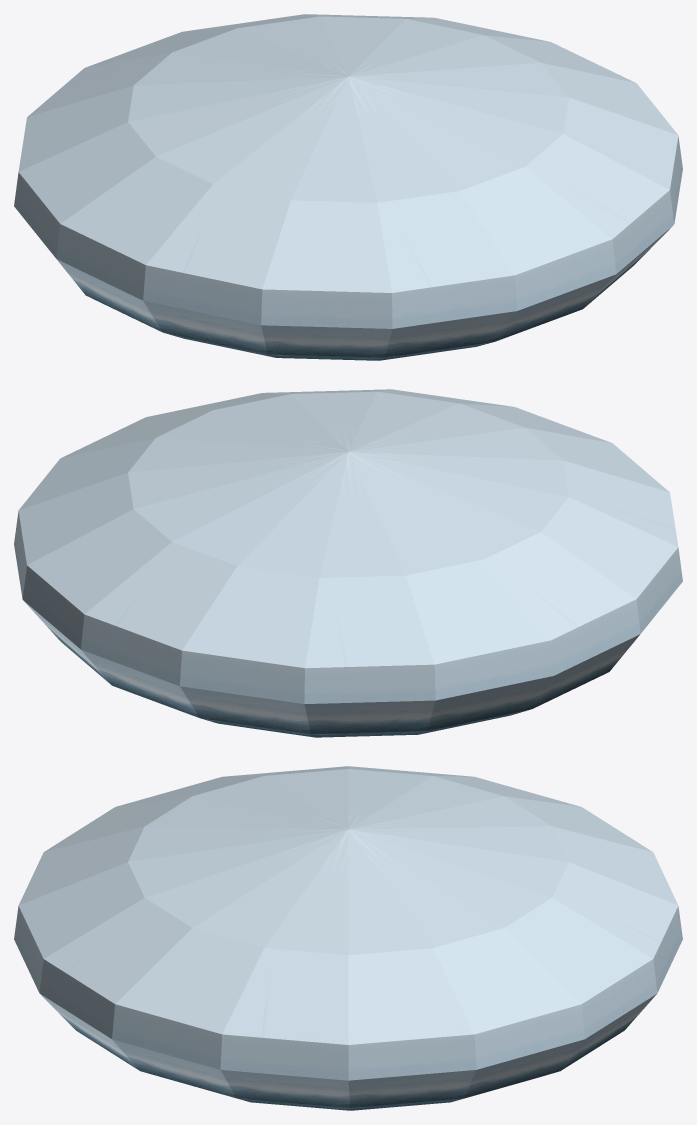
The picture shows the model from 3 angles, top to bottom: view 1: azimuth 30°, elevation 25°; view 2: azimuth 150°, elevation 25°; view 3: azimuth 270°, elevation 25°; orthographic projection.
Visible parts, largest first — view 1: mesh00; view 2: mesh00; view 3: mesh00.
Boxes of the visible parts, box(x1,y1,x2,y2) form: mesh00: box(14, 14, 682, 360); mesh00: box(14, 389, 682, 737); mesh00: box(14, 766, 682, 1110).
Size of the model in its own units: 102020 by 38930 by 102020.
1 material, 1 textured.
